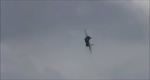maybay_muctieu: (82, 28, 94, 53)
